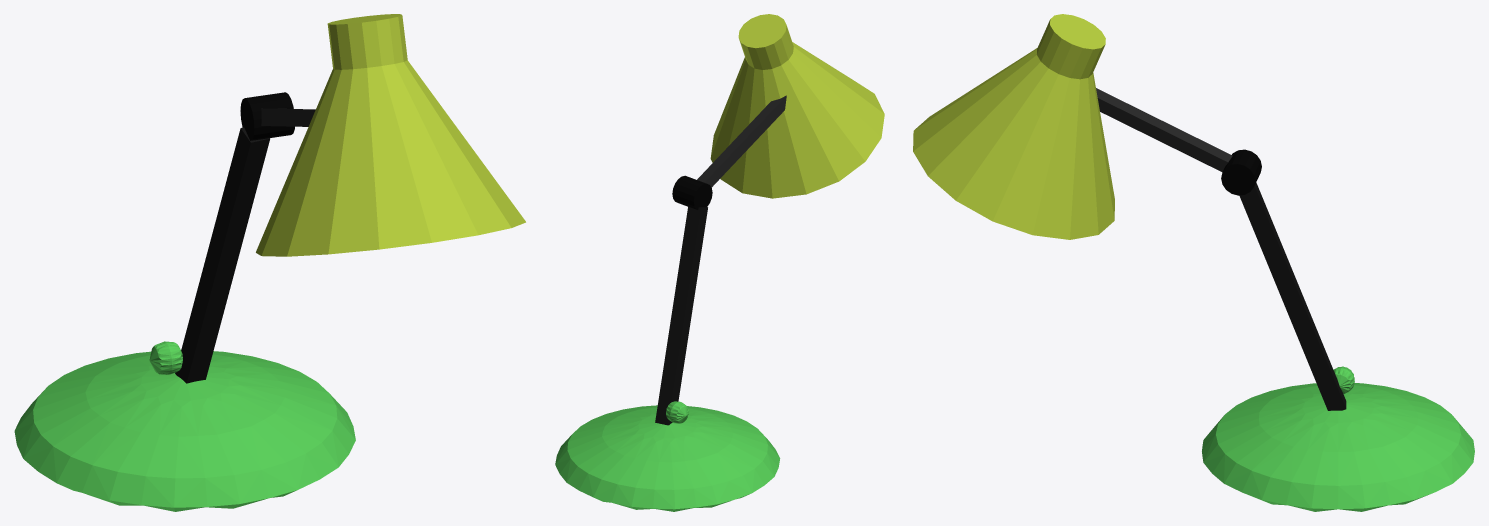
Rendered from lamp.obj.
3 views of the same model, side by side, from view 1: azimuth 30°, elevation 25°; view 2: azimuth 150°, elevation 25°; view 3: azimuth 270°, elevation 25° (orthographic). The views are drawn at different scales.
Parts seen in each view (by area): view 1: Cylinder.003, Cylinder.002, Cube.007, Cylinder.001, Cube.006; view 2: Cylinder.002, Cylinder.003, Cube.007, Cube.006, Cylinder.001; view 3: Cylinder.002, Cylinder.003, Cube.007, Cube.006, Cylinder.001.
Boxes of the visible parts, x1,y1,x2,y2 form: Cylinder.003: [14, 341, 355, 511]; Cylinder.002: [256, 14, 525, 256]; Cube.007: [175, 127, 270, 383]; Cylinder.001: [240, 92, 294, 140]; Cube.006: [261, 108, 315, 126]; Cylinder.002: [710, 14, 884, 198]; Cylinder.003: [555, 401, 780, 511]; Cube.007: [655, 206, 707, 425]; Cube.006: [697, 95, 786, 187]; Cylinder.001: [672, 175, 712, 209]; Cylinder.002: [913, 14, 1114, 239]; Cylinder.003: [1202, 366, 1474, 511]; Cube.007: [1239, 182, 1346, 410]; Cube.006: [1096, 88, 1232, 172]; Cylinder.001: [1221, 149, 1261, 195].
Size of the model in its own units: 0.6061 by 1.12 by 1.25.
